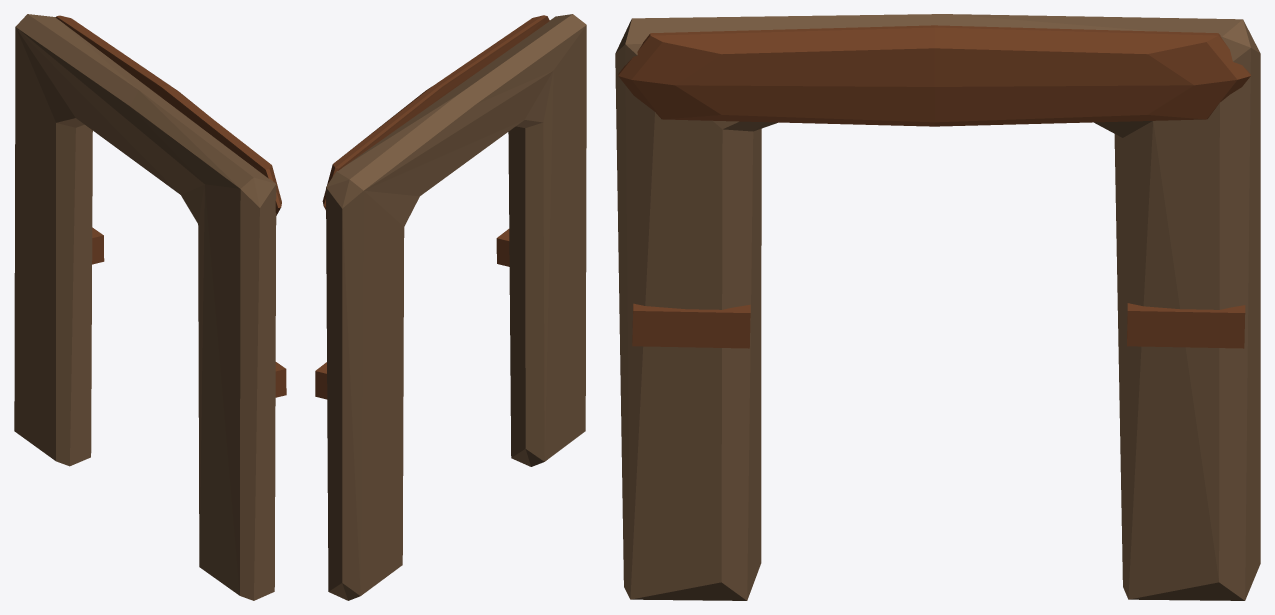
The model's file is woodenDoor.fbx.
The picture shows the model from 3 angles, left to right: view 1: azimuth 30°, elevation 25°; view 2: azimuth 150°, elevation 25°; view 3: azimuth 270°, elevation 25°; orthographic projection. The views are drawn at different scales.
Parts seen in each view (by area): view 1: 平面.008; view 2: 平面.008; view 3: 平面.008.
Part boxes in pixels (box(x1,y1,x2,y2)): 平面.008: box(14, 14, 286, 600); 平面.008: box(315, 14, 586, 600); 平面.008: box(615, 14, 1260, 600).
Bounding box in the file's own units: 51.44 × 393 × 395.
